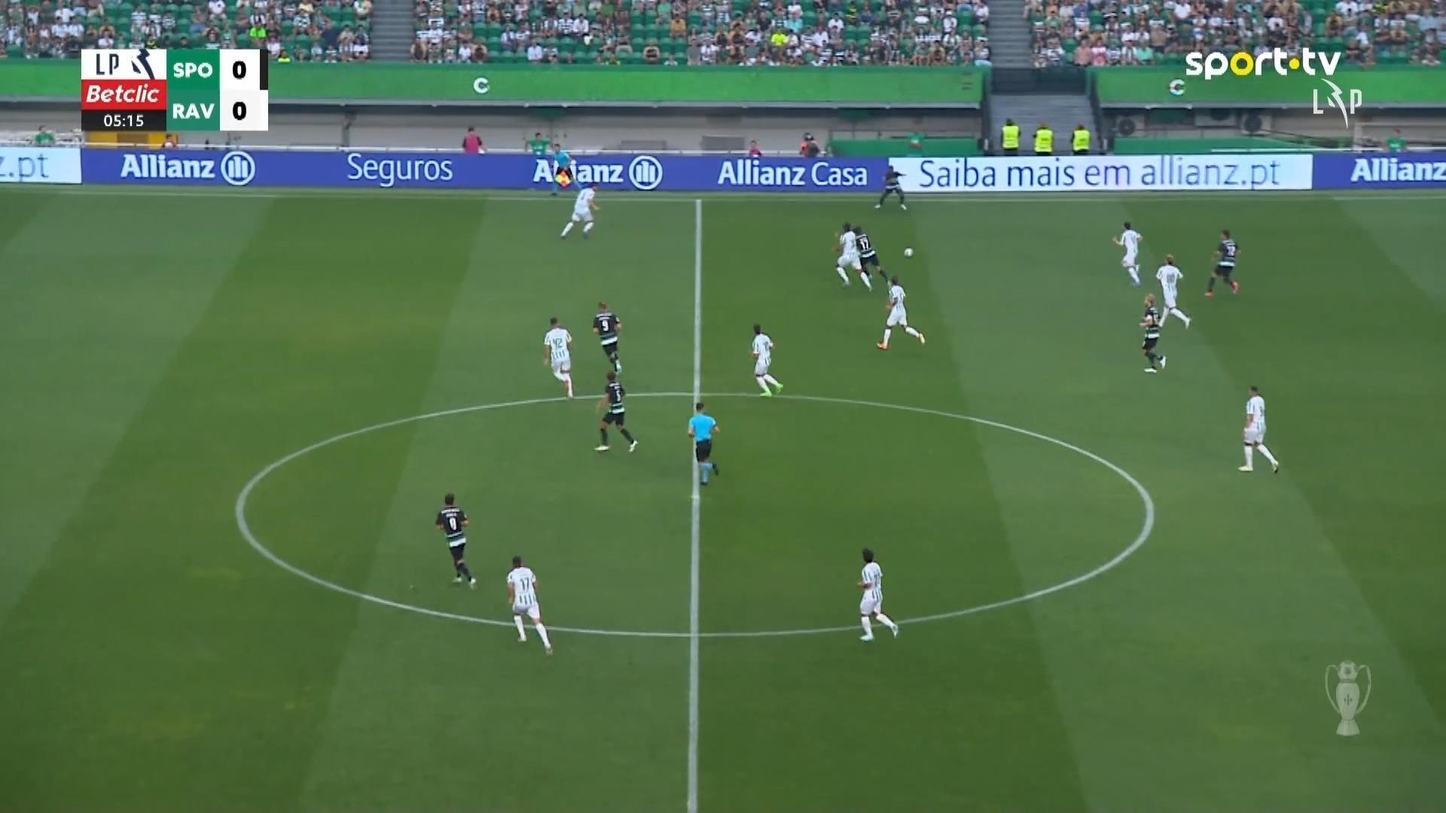ball: (903, 247, 913, 257)
player: (505, 554, 554, 656), (435, 492, 477, 589), (856, 547, 898, 641), (1237, 384, 1280, 473), (876, 273, 925, 350), (593, 370, 638, 452), (832, 221, 872, 290), (541, 316, 574, 399), (1155, 253, 1191, 329), (749, 323, 783, 396), (1204, 228, 1239, 297), (559, 181, 600, 239), (591, 300, 623, 374), (1139, 294, 1167, 373), (850, 223, 886, 283), (1112, 220, 1142, 287), (873, 164, 908, 211)
referee: (686, 400, 720, 485), (549, 142, 575, 195)
